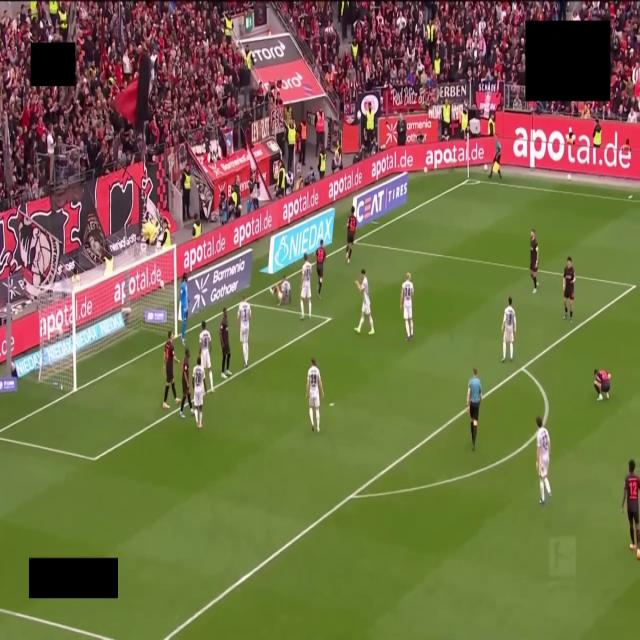player: (622, 460, 639, 559), (163, 331, 180, 408), (536, 417, 551, 504), (306, 358, 323, 432), (355, 269, 374, 335), (192, 358, 206, 428), (199, 321, 213, 388), (237, 296, 250, 367), (502, 297, 516, 362), (180, 348, 193, 417), (219, 307, 231, 378), (401, 272, 413, 340), (563, 257, 575, 322), (301, 254, 311, 319), (316, 240, 326, 298), (180, 273, 188, 345), (346, 207, 356, 263), (530, 230, 538, 293), (272, 278, 290, 305), (594, 370, 610, 400)
referee: (466, 368, 482, 451)
